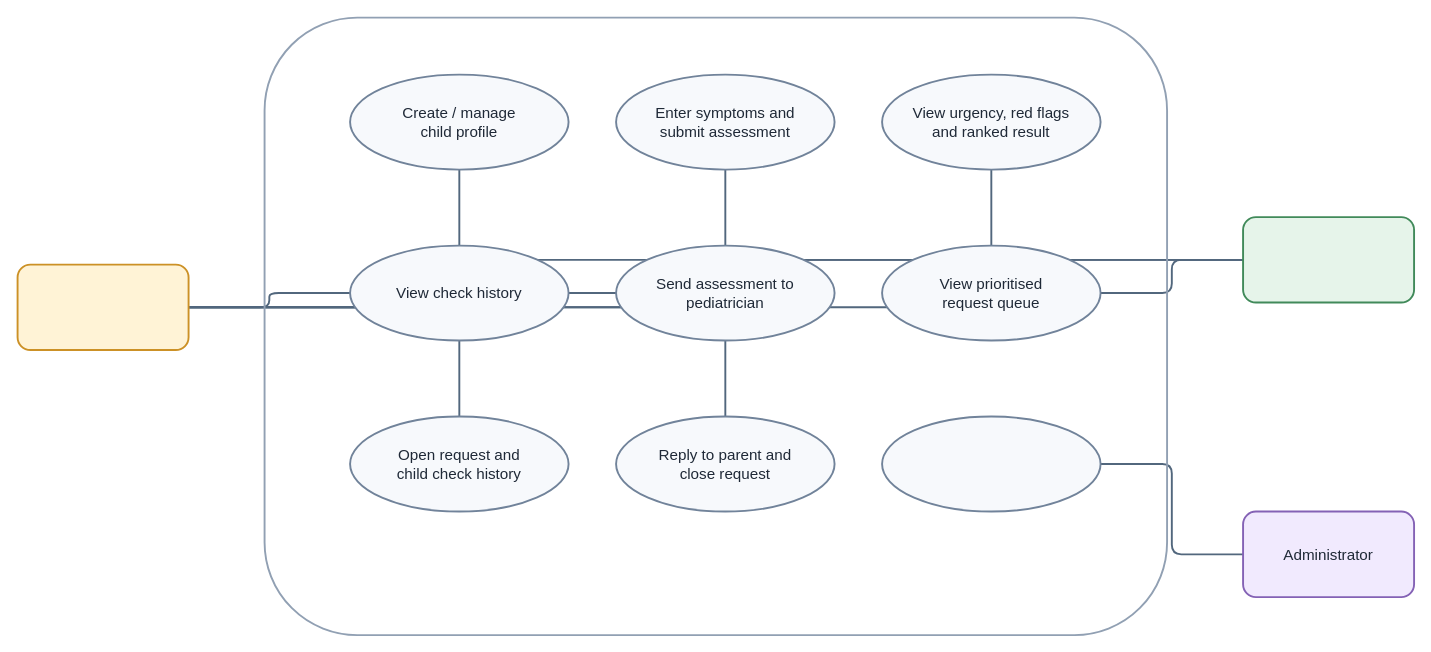
Some shapes in this 1431 by 652 pixel diagram are drawn without their labels. Here are the shapes that lost their labels. From the top down, the centre of each, then its label:
[1328,259]: Pediatrician
[102,307]: Parent
[991,463]: Edit symptom–condition knowledge base
